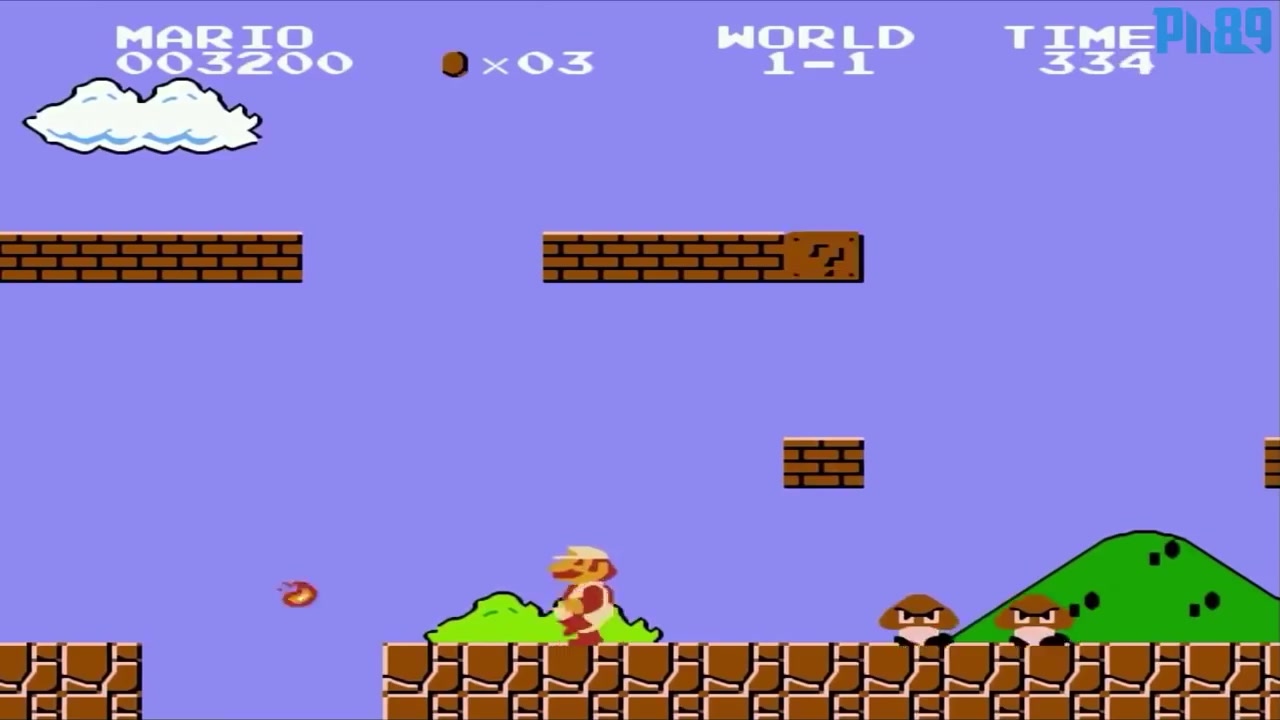mario: (536, 534, 622, 655)
